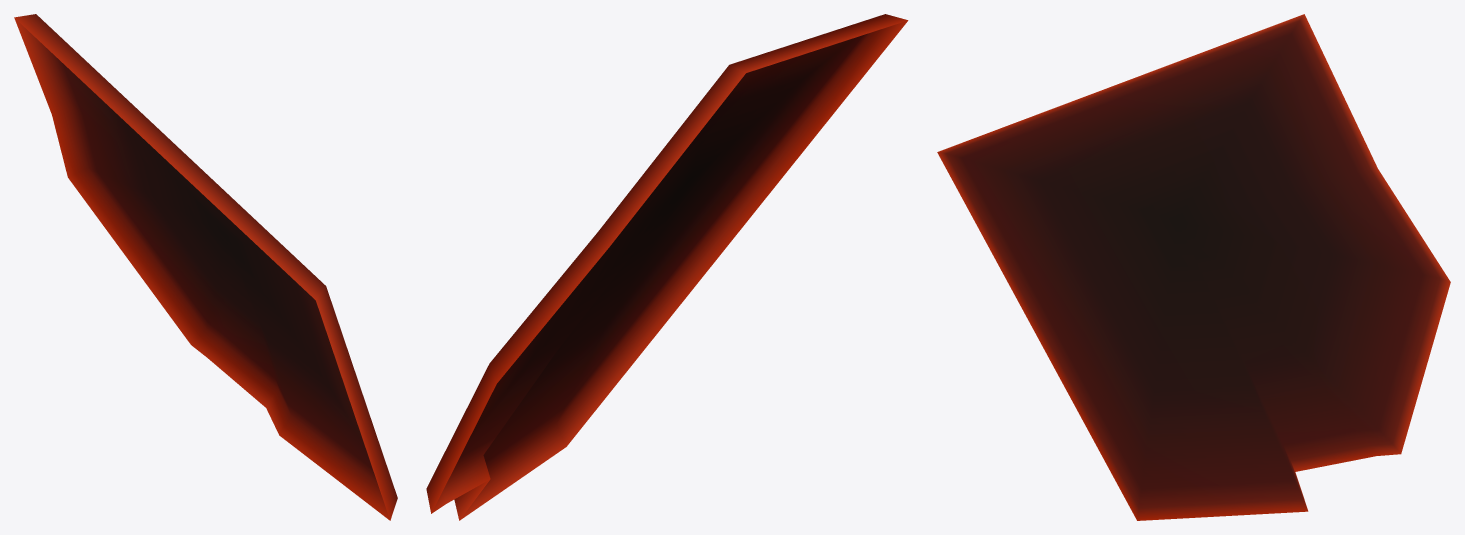
File: raft_60.glb
3 views of the same model, side by side, from view 1: azimuth 30°, elevation 25°; view 2: azimuth 150°, elevation 25°; view 3: azimuth 270°, elevation 25° (orthographic). The views are drawn at different scales.
Visible parts, largest first — view 1: raft; view 2: raft; view 3: raft.
Boxes of the visible parts, x1,y1,x2,y2 form: raft: (14, 14, 397, 520); raft: (426, 14, 908, 520); raft: (937, 14, 1450, 520).
Bounding box in the file's own units: 0.7471 × 1.26 × 1.46.
